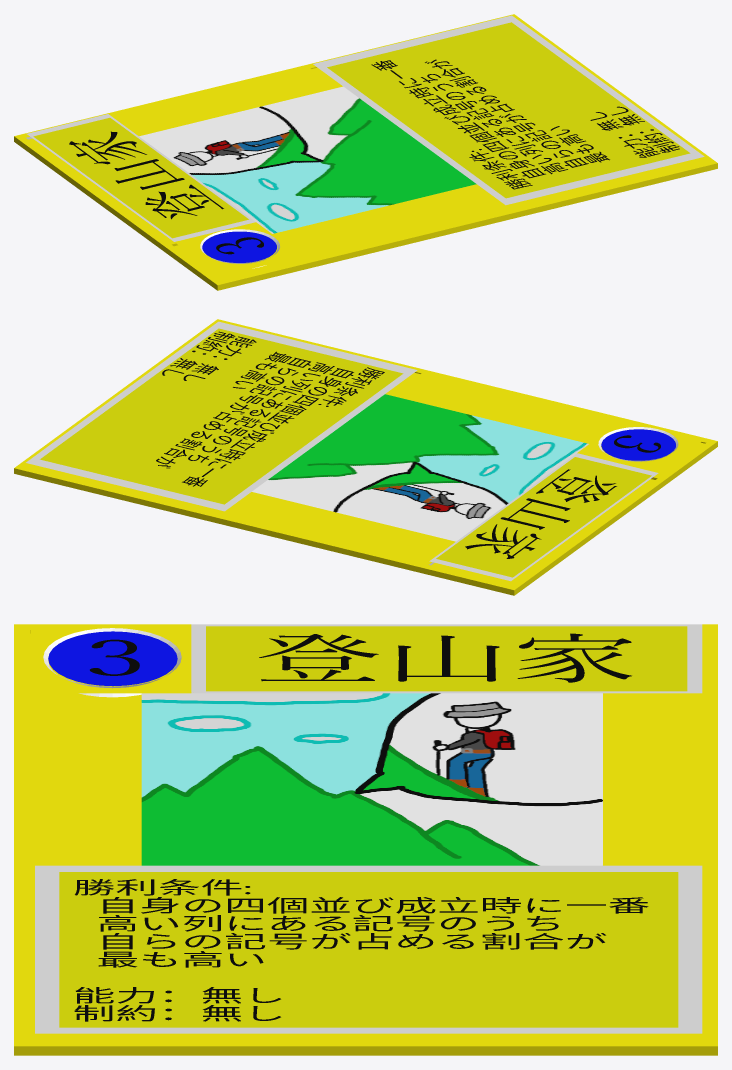
Rendered from 登山家黄.fbx.
3 renders of one model, top to bottom at view 1: azimuth 30°, elevation 25°; view 2: azimuth 150°, elevation 25°; view 3: azimuth 270°, elevation 25°, orthographic. The views are drawn at different scales.
Parts seen in each view (by area): view 1: 説明欄, 平面.001, カード本体.001, 名前欄, 説明文, 円, 平面, 名前; view 2: 説明欄, 平面.001, カード本体.001, 名前欄, 説明文, 円, 平面, 名前; view 3: 説明欄, 平面.001, カード本体.001, 名前欄, 説明文, 円, 平面, 名前, コスト蘭.
Part boxes in pixels (<box>): 説明欄: <box>313,15,704,205</box>; 平面.001: <box>139,86,476,233</box>; カード本体.001: <box>14,14,717,290</box>; 名前欄: <box>27,114,255,241</box>; 説明文: <box>371,59,679,189</box>; 円: <box>202,231,276,262</box>; 平面: <box>174,222,302,275</box>; 名前: <box>69,131,223,219</box>; 説明欄: <box>26,321,417,511</box>; 平面.001: <box>252,394,588,541</box>; カード本体.001: <box>14,319,717,595</box>; 名前欄: <box>429,453,658,581</box>; 説明文: <box>156,331,384,486</box>; 円: <box>601,429,675,460</box>; 平面: <box>577,419,704,472</box>; 名前: <box>465,469,616,558</box>; 説明欄: <box>35,865,702,1033</box>; 平面.001: <box>141,693,602,865</box>; カード本体.001: <box>14,624,717,1055</box>; 名前欄: <box>191,624,702,693</box>; 説明文: <box>74,879,648,1021</box>; 円: <box>48,631,177,686</box>; 平面: <box>30,624,191,693</box>; 名前: <box>259,633,631,682</box>; コスト蘭: <box>43,628,181,697</box>.
Bounding box in the file's own units: 281 × 6.07 × 198.
